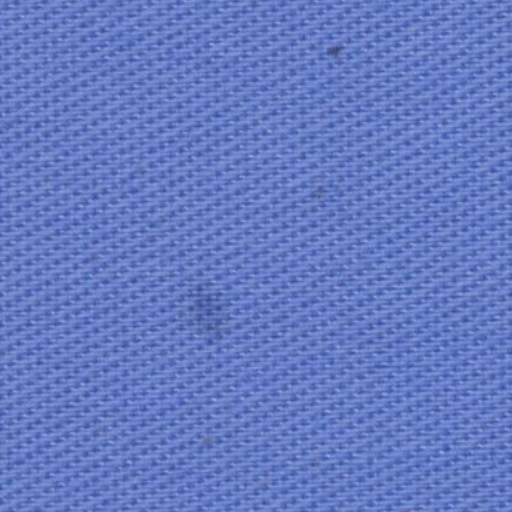WuZi: (180, 266, 252, 352), (301, 174, 372, 246), (308, 30, 364, 86)
